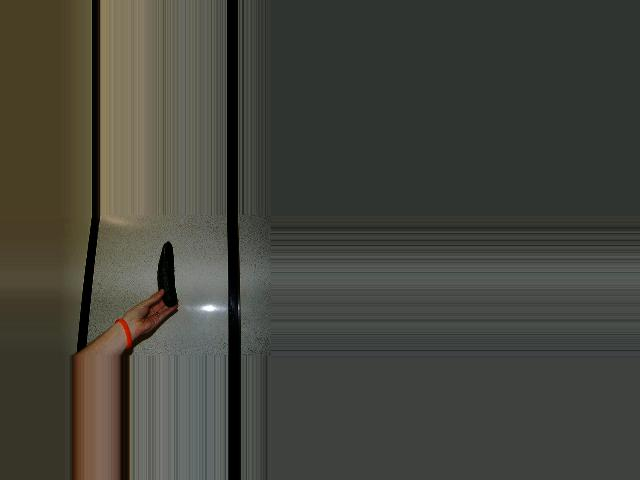cucumber: (158, 241, 177, 307)
